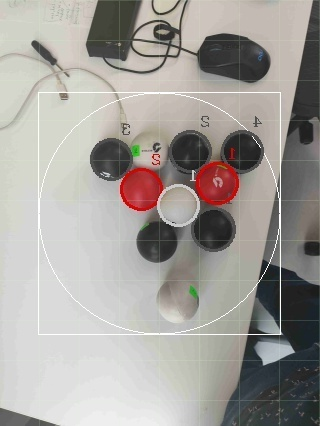Pelota blanca: (0, 49, 52, 128), (157, 182, 201, 227), (157, 278, 201, 323), (0, 411, 60, 425)
Pelota negra: (197, 31, 273, 83), (191, 206, 238, 254), (90, 137, 135, 182), (220, 129, 265, 174), (135, 220, 180, 264), (170, 129, 214, 171)
Pelota roja: (194, 158, 241, 206), (119, 166, 164, 211)
